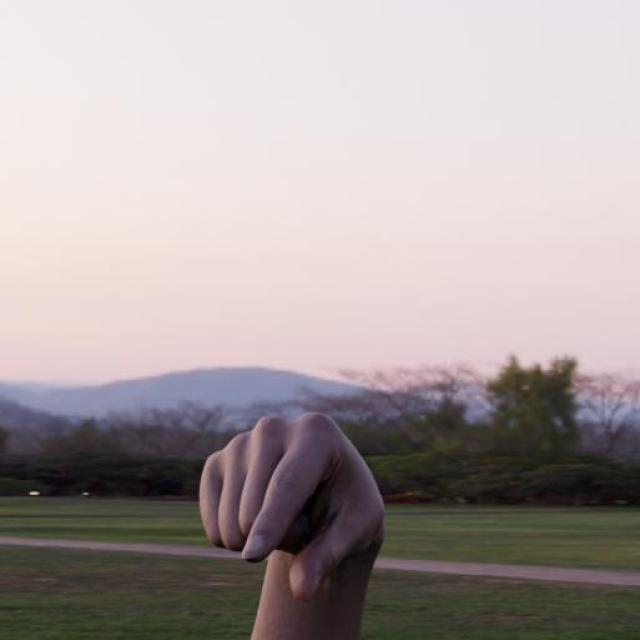Q: (197, 410, 388, 602)
